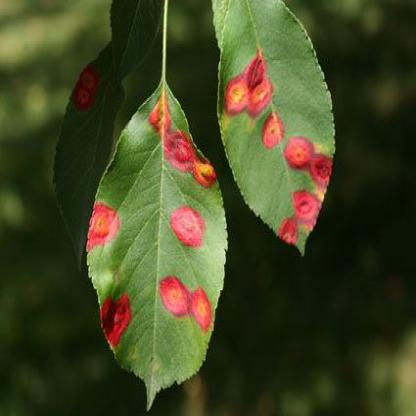apple rust leaf: (86, 75, 238, 415), (213, 3, 350, 264)
